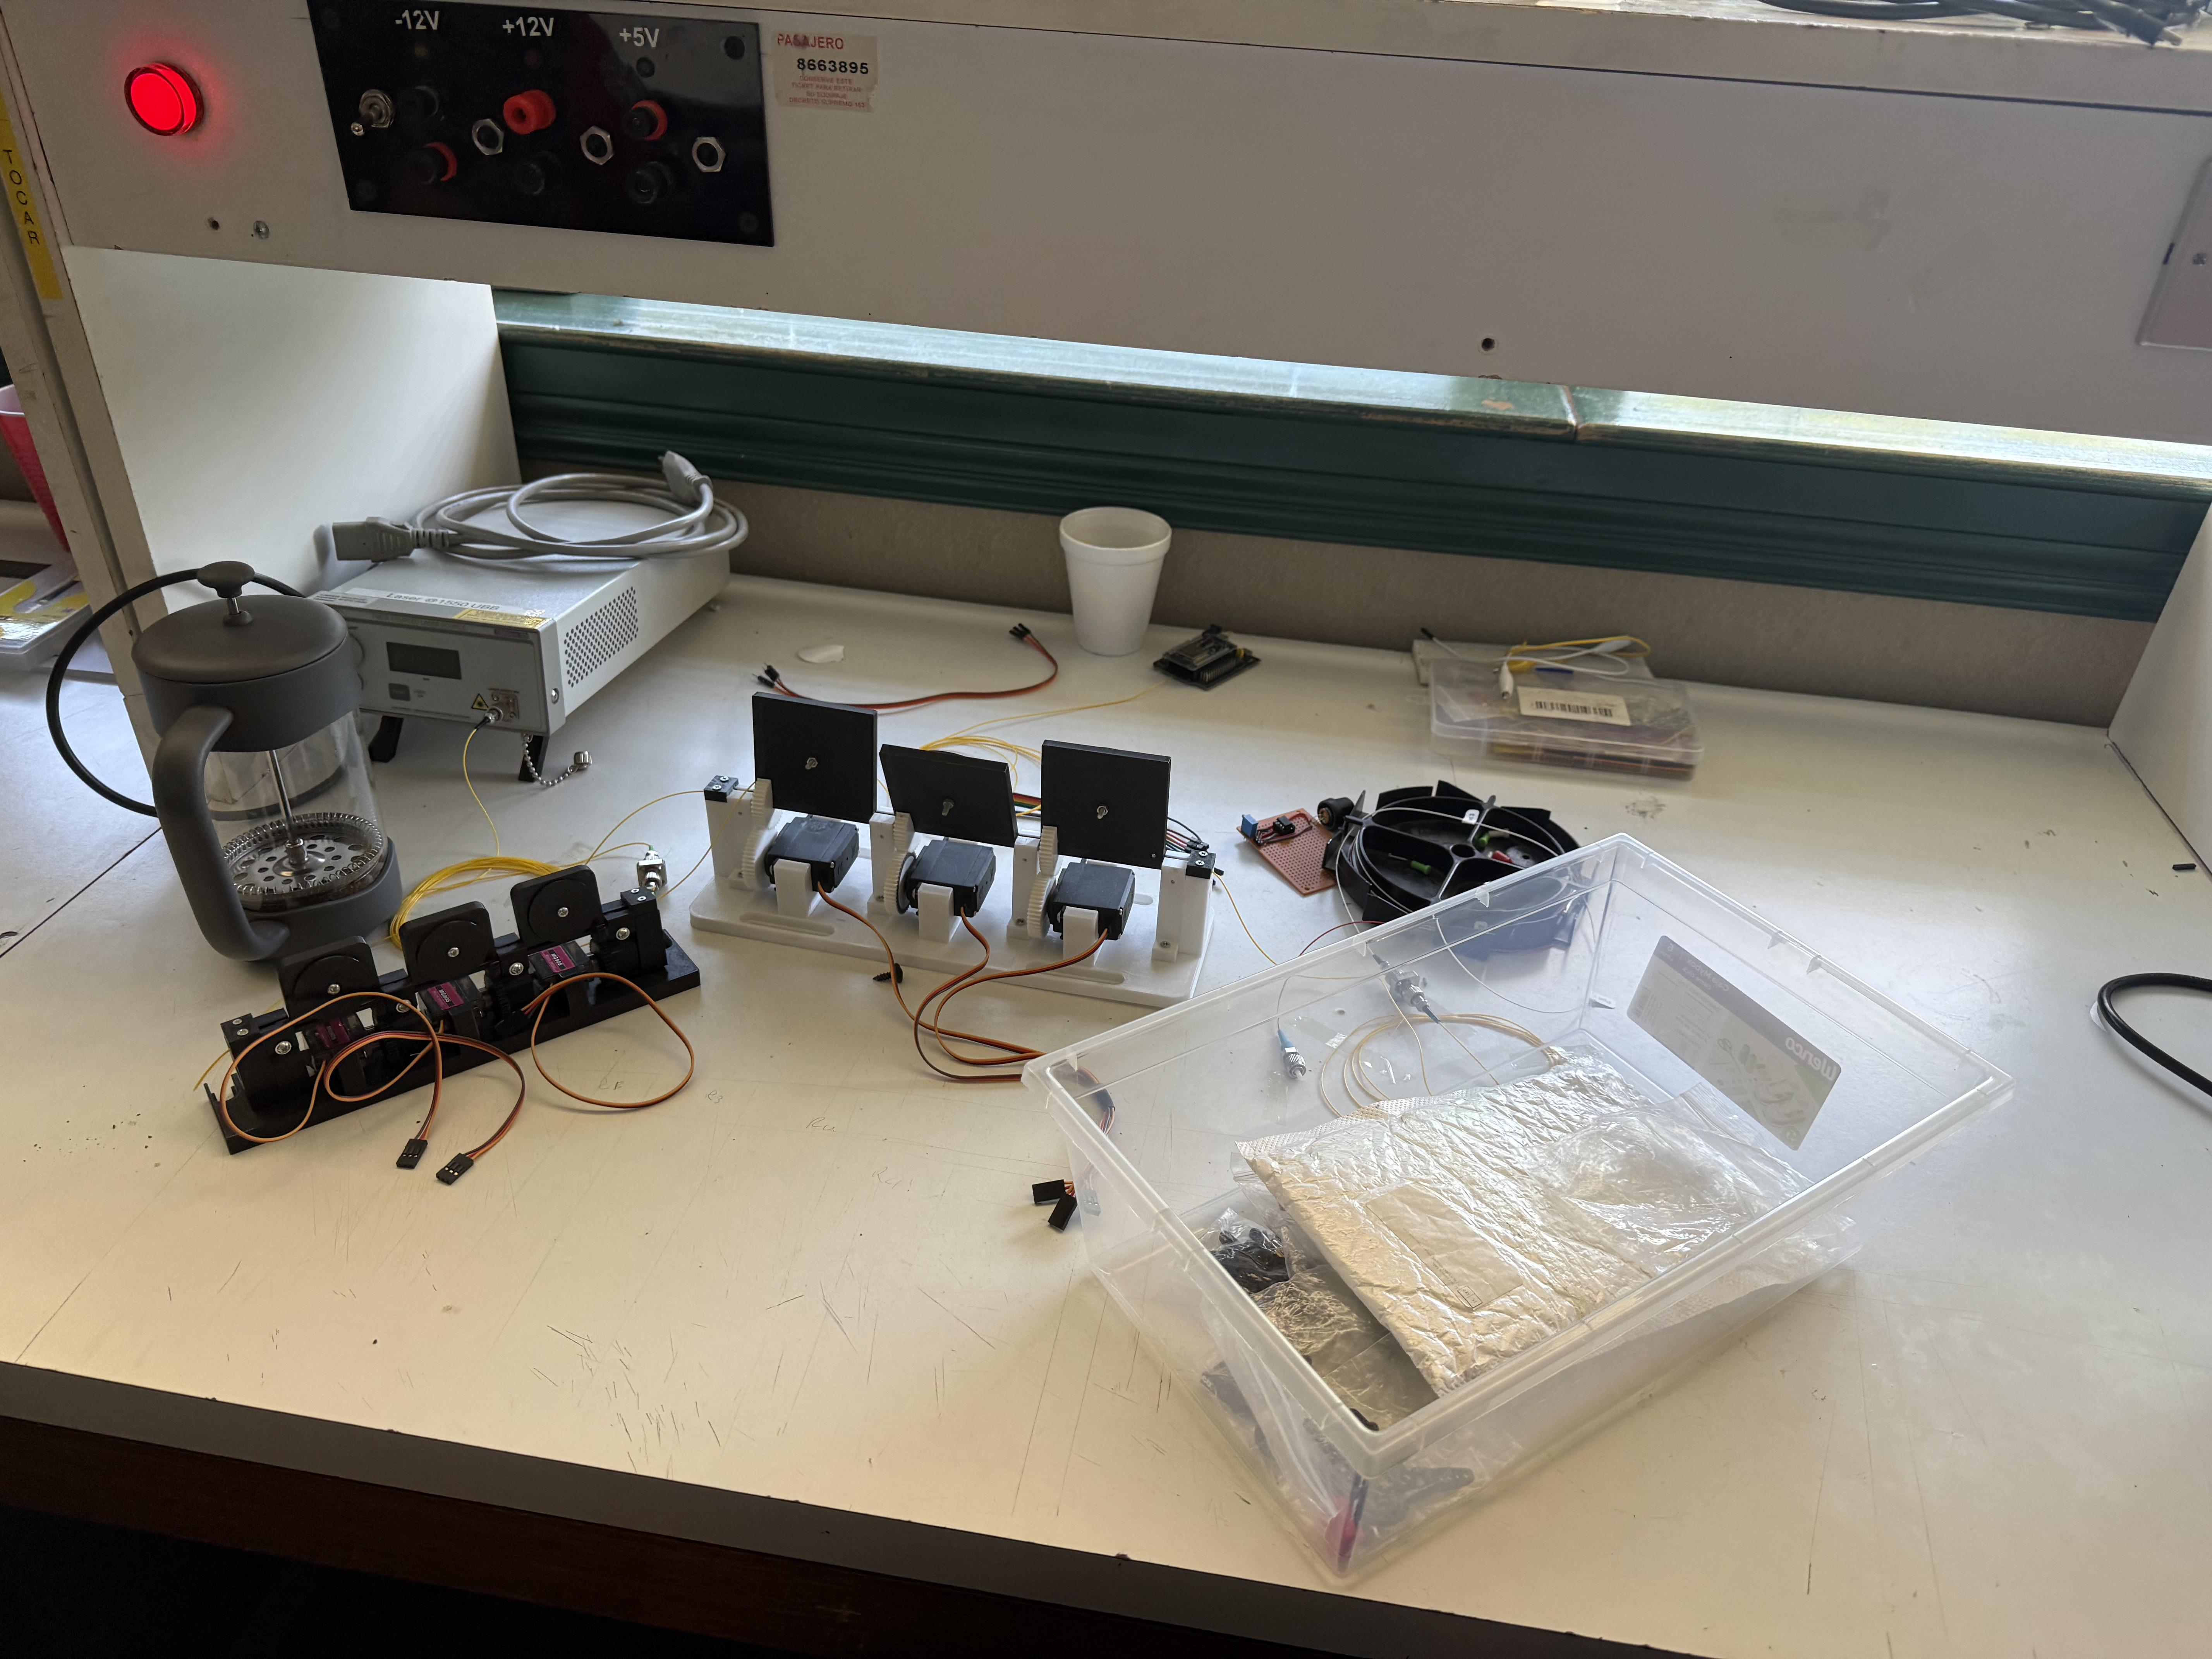laser: (265, 459, 792, 800)
paddle_polarization_controller: (670, 623, 1249, 1036), (180, 819, 755, 1197)
